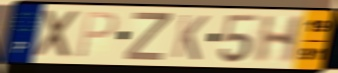5: (217, 13, 261, 65)
H: (252, 14, 307, 65)
K: (169, 12, 211, 62)
P: (75, 10, 120, 60)
X: (33, 8, 83, 60)
Z: (122, 10, 174, 62)
